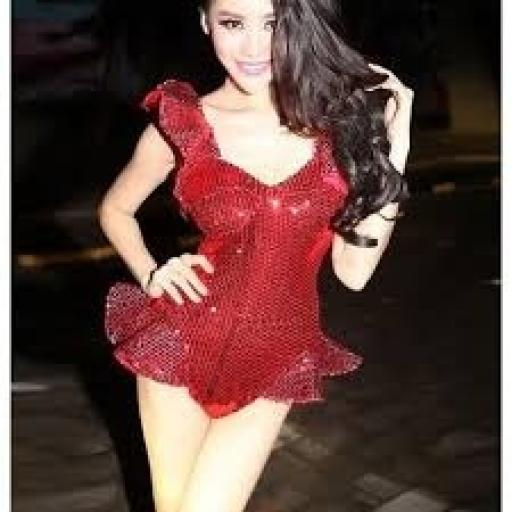dancing: (96, 0, 416, 510)
